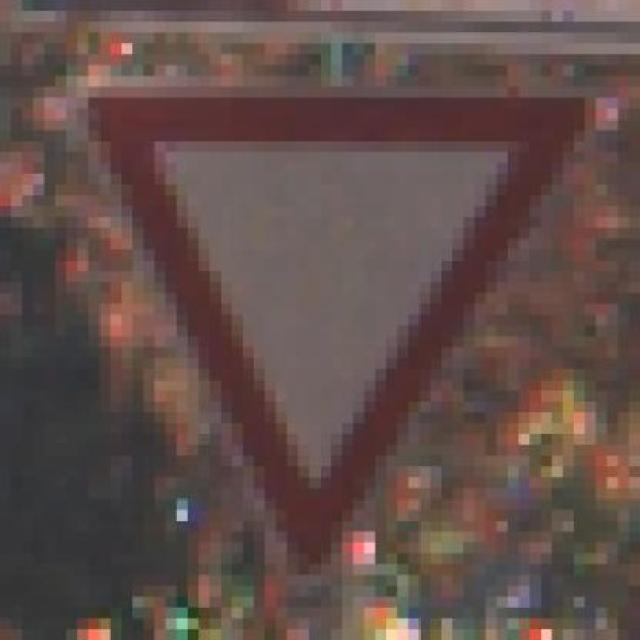Give Way: (67, 70, 585, 570)
